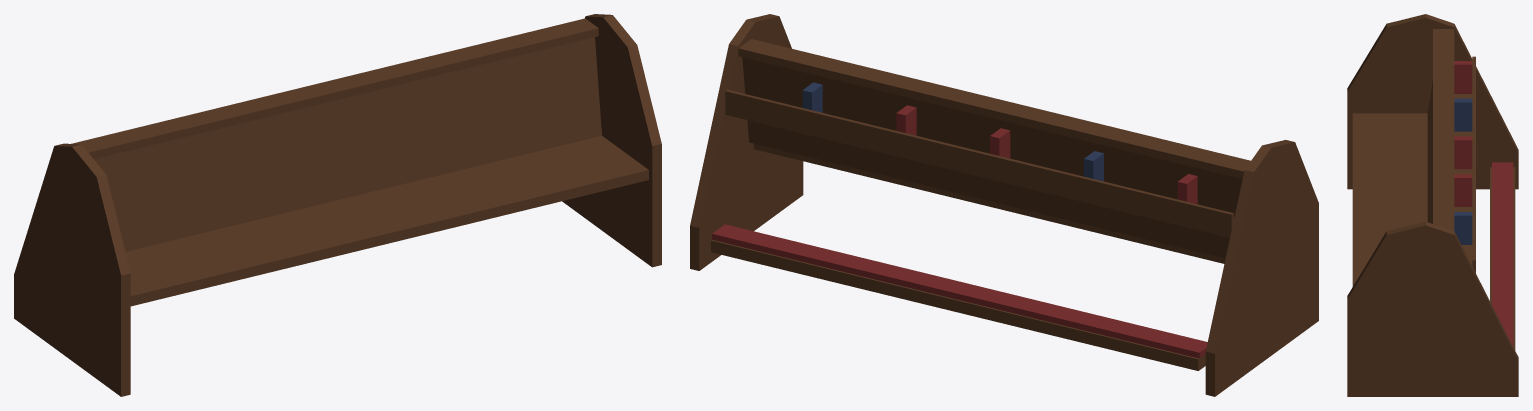
Rendered from pew.glb.
The picture shows the model from 3 angles, left to right: view 1: azimuth 30°, elevation 25°; view 2: azimuth 150°, elevation 25°; view 3: azimuth 270°, elevation 25°; orthographic projection. The views are drawn at different scales.
Parts seen in each view (by area): view 1: pew; view 2: pew; view 3: pew.
Boxes of the visible parts, bbox=[...] form: pew: bbox=[14, 14, 661, 396]; pew: bbox=[690, 14, 1318, 396]; pew: bbox=[1347, 14, 1518, 396].
Bounding box in the file's own units: 2.8 × 1.06 × 0.96.
Materials: 1 (1 with a texture image).
